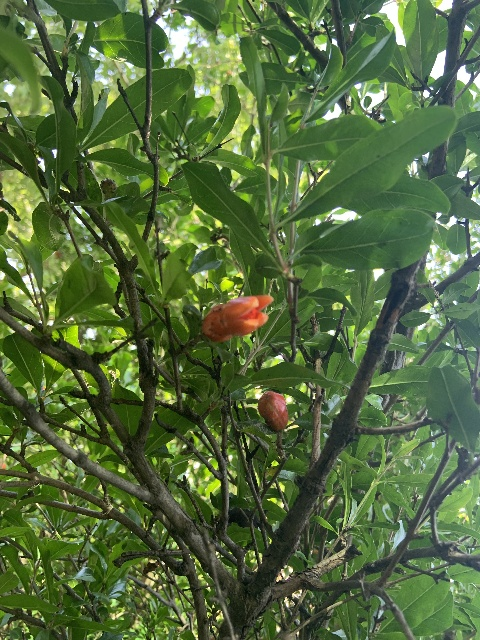bud: (258, 391, 288, 431)
flower: (201, 294, 272, 341)
